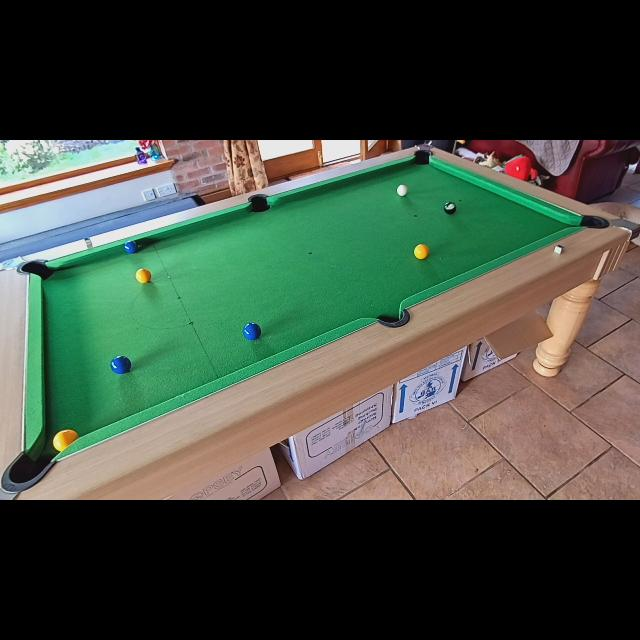Ball: (52, 430, 80, 452), (110, 356, 130, 374), (243, 322, 261, 340), (136, 268, 152, 284), (414, 244, 430, 260), (124, 240, 138, 254), (444, 202, 456, 214), (397, 184, 408, 196)
